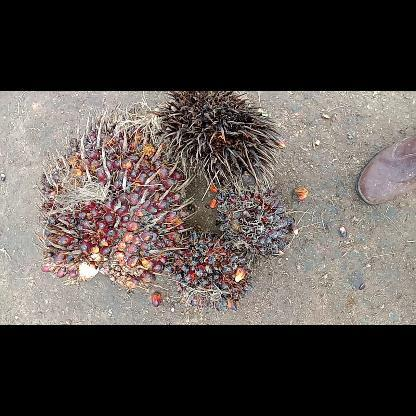Janjang kosong: (144, 91, 284, 193)
TBS abnormal: (168, 230, 254, 312), (212, 185, 300, 263)
TBS masak: (29, 103, 191, 292)
